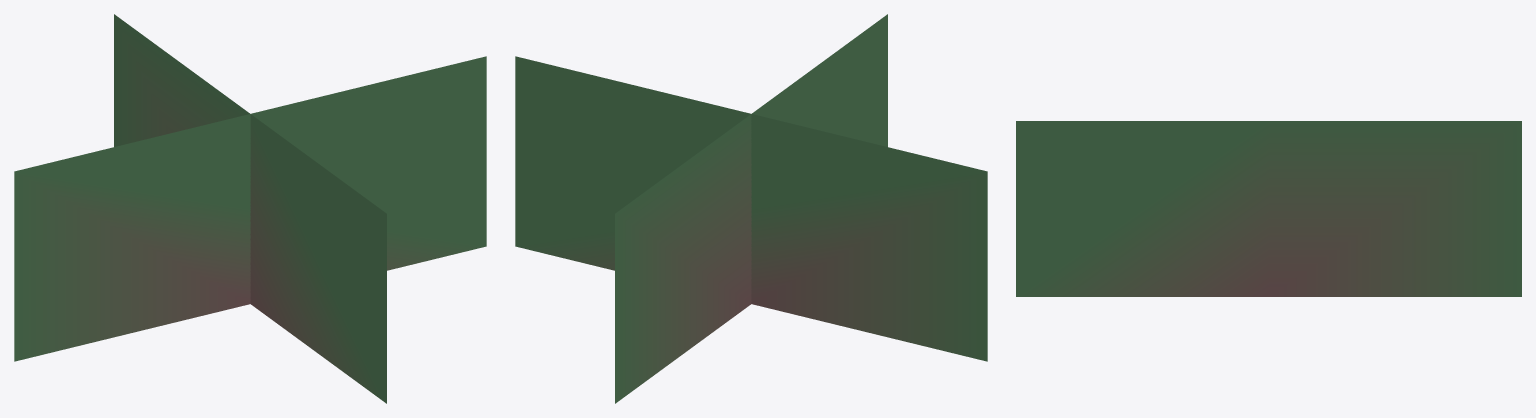
The model's file is tree-small.glb.
3 renders of one model, left to right at view 1: azimuth 30°, elevation 25°; view 2: azimuth 150°, elevation 25°; view 3: azimuth 270°, elevation 25°, orthographic. The views are drawn at different scales.
Visible parts, largest first — view 1: tree-small; view 2: tree-small; view 3: tree-small.
Boxes of the visible parts, x1,y1,x2,y2 form: tree-small: (14,14,486,403); tree-small: (515,14,987,403); tree-small: (1016,121,1521,296).
Size of the model in its own units: 0.78 by 0.3 by 0.78.
